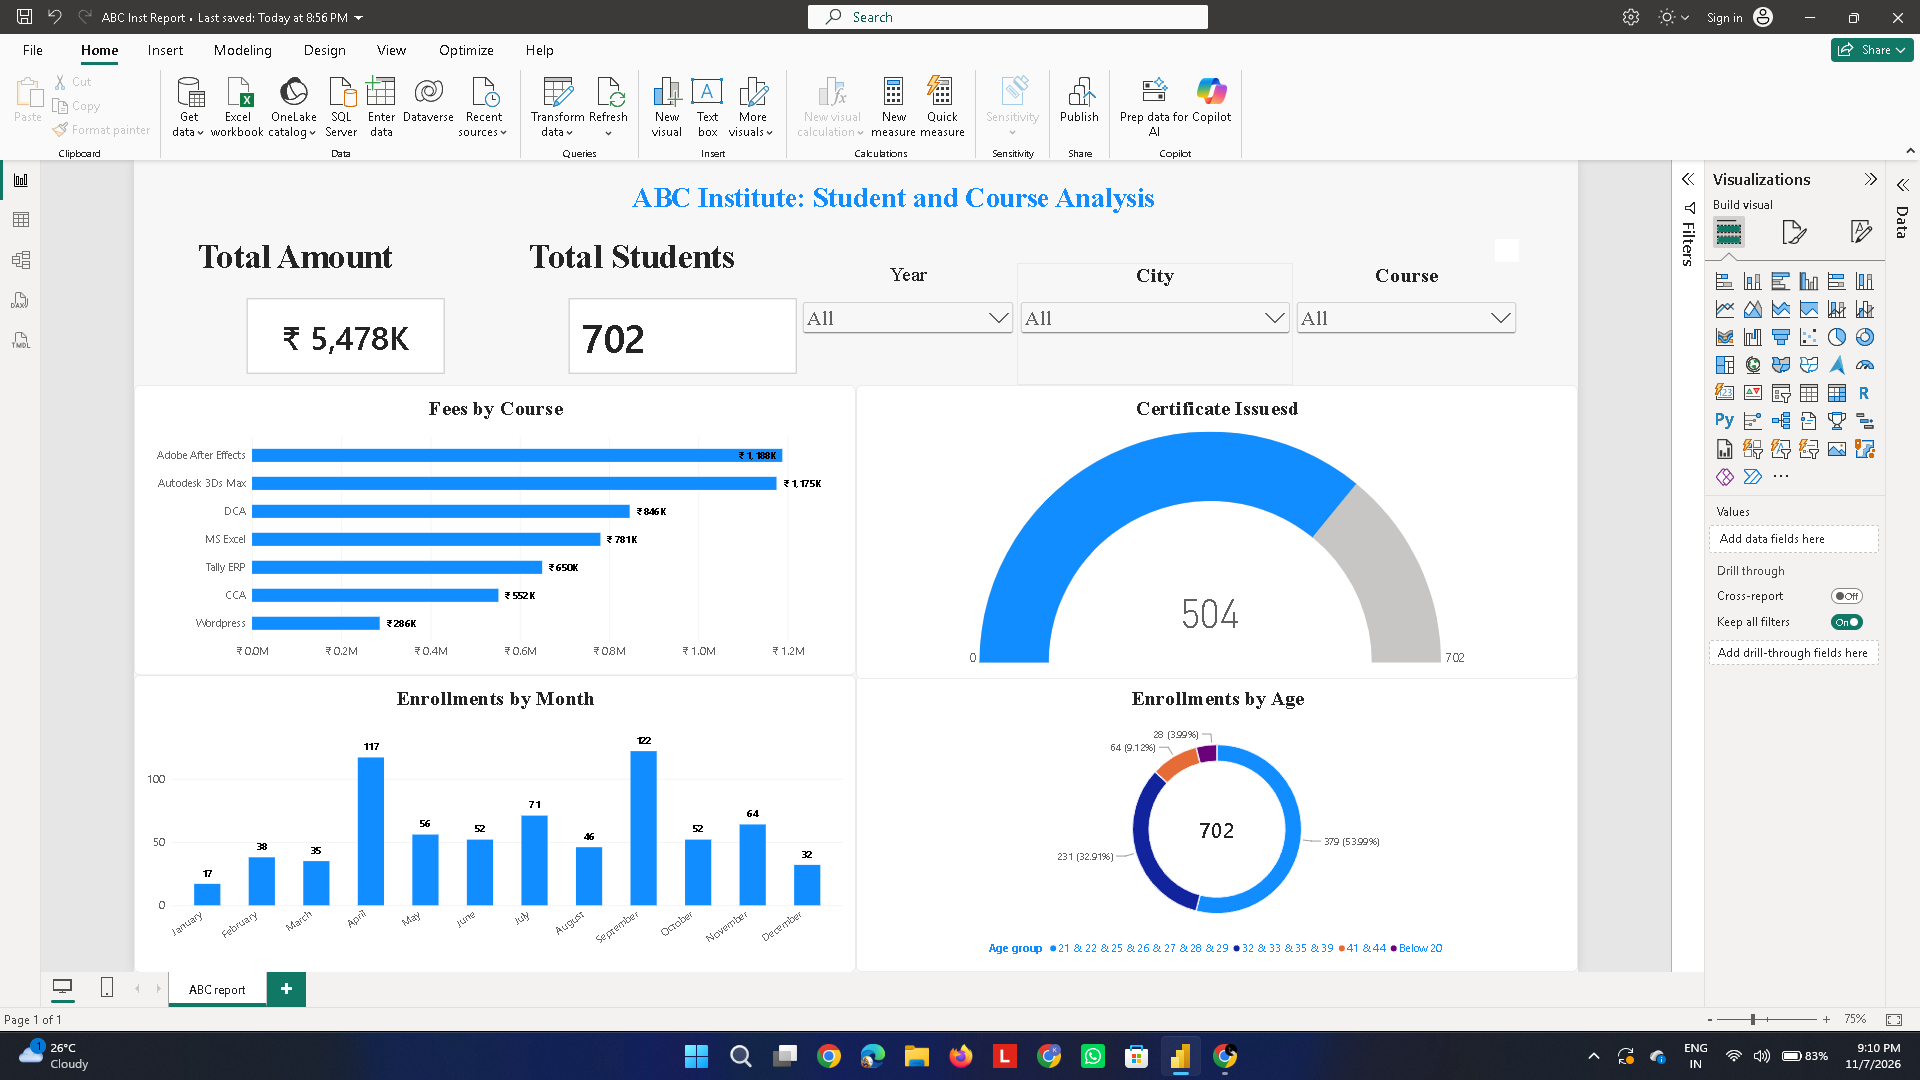

The page's visual inventory and layout, read from the dashboard file:
{"tool":"powerbi","page":{"name":"ABC report","canvas":[1920,1080],"ordinal":0},"visuals":[{"type":"clusteredColumnChart","title":"Enrollments by Month","fields":{"Category":["Student Course Details.Date of Join.Variation.Date Hierarchy.Month"],"Y":["CountNonNull(Student Course Details.Course)"]},"box":[0,685,960.3,396.4],"z":0},{"type":"donutChart","title":"Enrollments by Age","fields":{"Category":["Student Course Details.Age group"],"Y":["CountNonNull(Student Course Details.Course)"]},"box":[960.3,685,960.3,395],"z":1000},{"type":"clusteredBarChart","title":"Fees by Course","fields":{"Category":["Student Course Details.Course"],"Y":["Sum(Student Course Details.Fees)"]},"box":[0,299.3,960.3,385.7],"z":2000},{"type":"cardVisual","title":"Total Students","fields":{"Data":["CountNonNull(Student Course Details.Student Name)"]},"box":[428.3,101.1,468.3,198.4],"z":3000},{"type":"gauge","title":"Certificate Issuesd","fields":{"Y":["Personal Details.CountYes"]},"box":[960.3,299.3,960.3,391],"z":4000},{"type":"slicer","title":"Year","fields":{"Values":["Student Course Details.Date of Join.Variation.Date Hierarchy.Year"]},"box":[884.5,137,290.3,161.9],"z":5000},{"type":"slicer","title":"City","fields":{"Values":["Personal Details.City"]},"box":[1174.4,137,367.7,161.9],"z":6000},{"type":"slicer","title":"Course","fields":{"Values":["Student Course Details.Course"]},"box":[1541.5,137,302,161.9],"z":7000},{"type":"cardVisual","title":"Total Amount","fields":{"Data":["Sum(Student Course Details.Fees)"]},"box":[0,101.1,428.3,198.2],"z":8000},{"type":"textbox","box":[99.8,99.8,328.5,300.6],"z":9000},{"type":"textbox","box":[100,100,300,300],"z":10000},{"type":"textbox","box":[99.8,27.9,1820.8,71.8],"z":11000}]}

Visuals, with their boxes on the page's 1920x1080 design canvas (x1, y1, x2, y2). These are canvas units, not pixel positions in the 1920x1080 screenshot, which may show the page scaled, cropped or inside an application window:
"Enrollments by Month" clusteredColumnChart: left=0, top=685, right=960, bottom=1081
"Enrollments by Age" donutChart: left=960, top=685, right=1921, bottom=1080
"Fees by Course" clusteredBarChart: left=0, top=299, right=960, bottom=685
"Total Students" cardVisual: left=428, top=101, right=897, bottom=300
"Certificate Issuesd" gauge: left=960, top=299, right=1921, bottom=690
"Year" slicer: left=884, top=137, right=1175, bottom=299
"City" slicer: left=1174, top=137, right=1542, bottom=299
"Course" slicer: left=1542, top=137, right=1844, bottom=299
"Total Amount" cardVisual: left=0, top=101, right=428, bottom=299
textbox: left=100, top=100, right=428, bottom=400
textbox: left=100, top=100, right=400, bottom=400
textbox: left=100, top=28, right=1921, bottom=100
